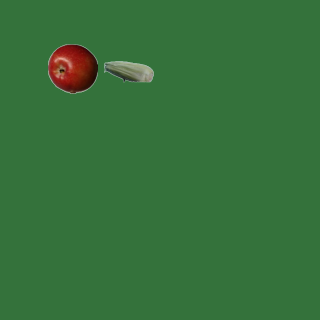Apple Braeburn: (47, 43, 97, 93)
Corn Husk: (103, 46, 153, 96)
